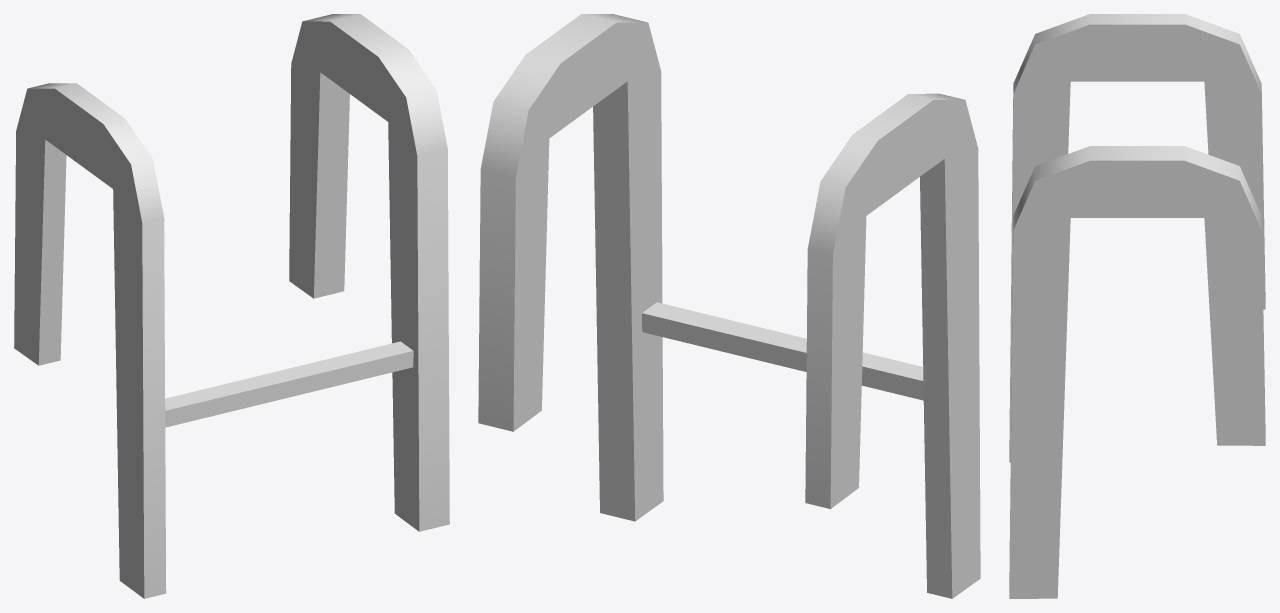
The model's file is pool_ladder_01.fbx.
3 views of the same model, side by side, from view 1: azimuth 30°, elevation 25°; view 2: azimuth 150°, elevation 25°; view 3: azimuth 270°, elevation 25° (orthographic). The views are drawn at different scales.
Visible parts, largest first — view 1: pool_ladder_01; view 2: pool_ladder_01; view 3: pool_ladder_01.
Boxes of the visible parts, bbox=[...] form: pool_ladder_01: bbox=[14, 14, 449, 598]; pool_ladder_01: bbox=[478, 14, 980, 598]; pool_ladder_01: bbox=[1009, 14, 1265, 598].
Bounding box in the file's own units: 0.6562 × 0.9132 × 0.4841.
